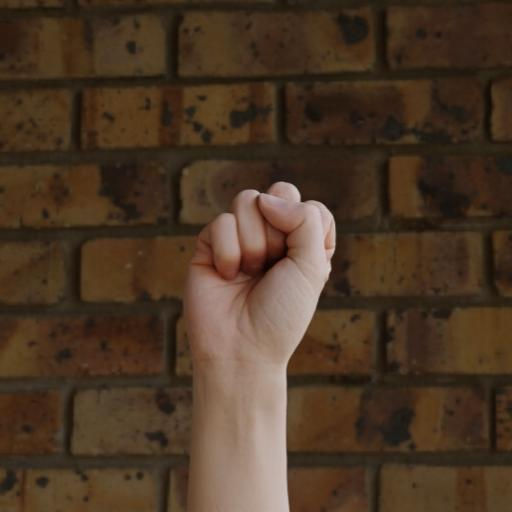S: (149, 151, 386, 469)
